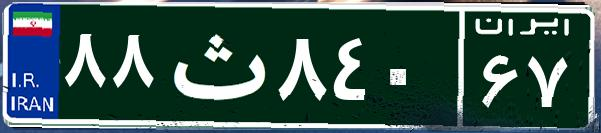0: (385, 28, 445, 110)
4: (330, 28, 385, 110)
6: (475, 38, 525, 113)
7: (525, 38, 570, 115)
8: (273, 28, 330, 110), (57, 26, 110, 107), (110, 28, 158, 105)
ث: (158, 15, 273, 115)
